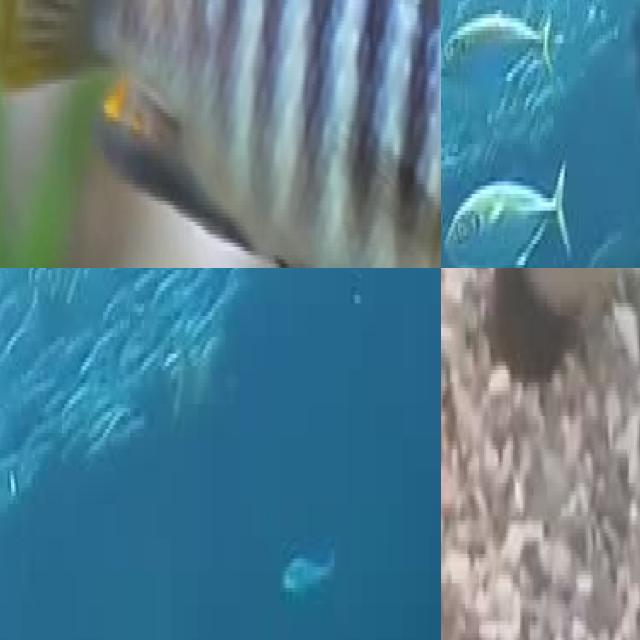fish: (0, 0, 441, 268), (441, 160, 577, 268)
